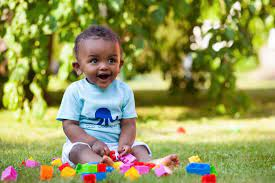child: (58, 24, 156, 166)
